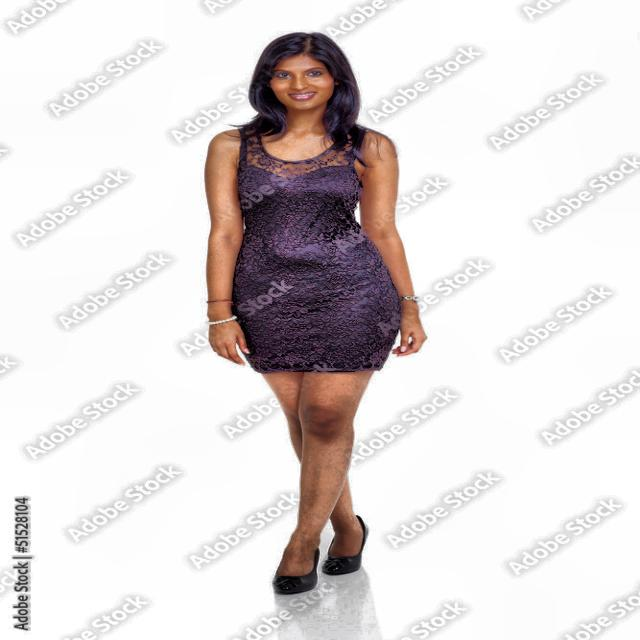Human: (171, 31, 462, 610)
